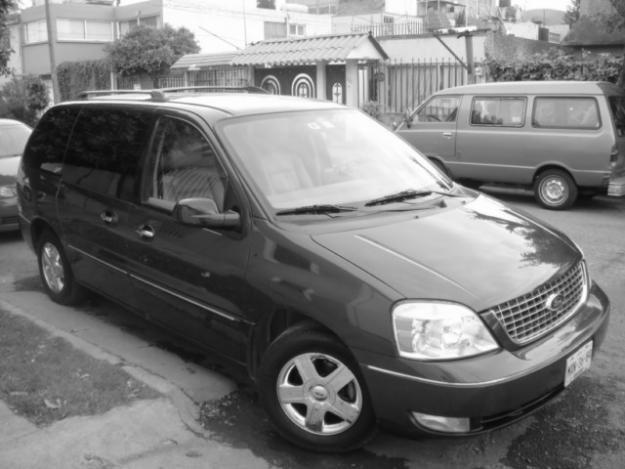car: (19, 88, 612, 455)
